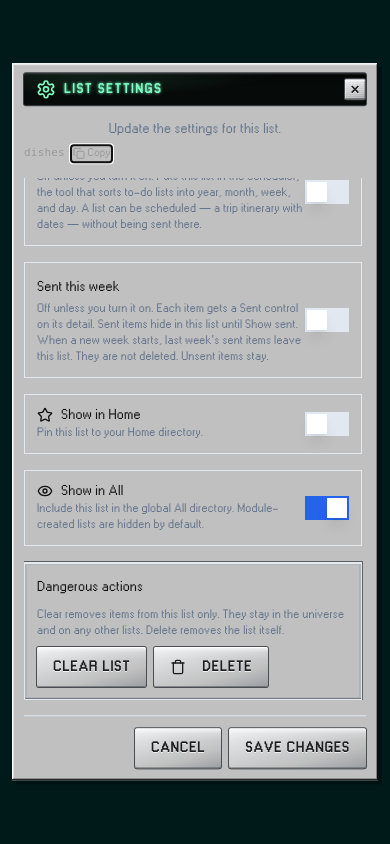
EditListDialog › confirm Cancel leaves list membership alone
The width and height of the screenshot is (390, 844).
(page scrolled)
Click the button "Clear list" at (92, 667), box [37,647,146,687]
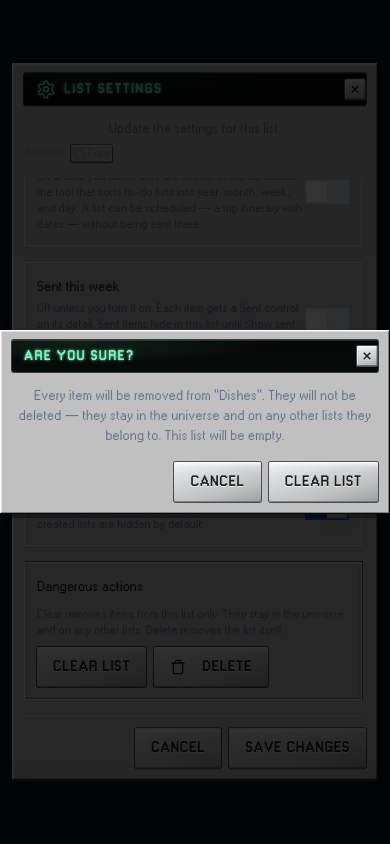
Click the button "Cancel" at (218, 482), box [174,462,261,502]
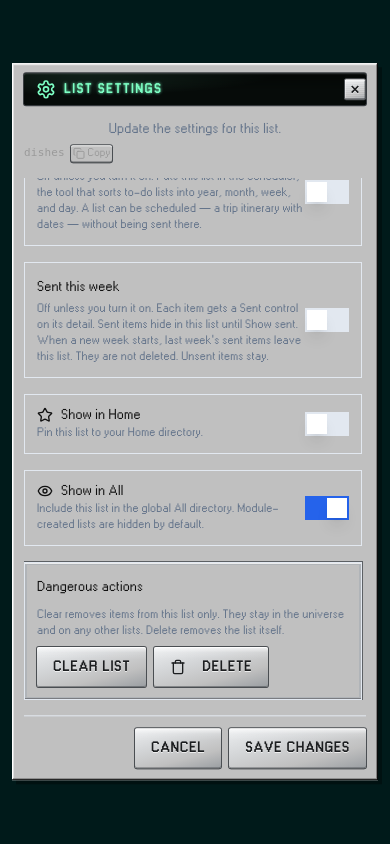
Now the heading "Are you sure?" is gone
